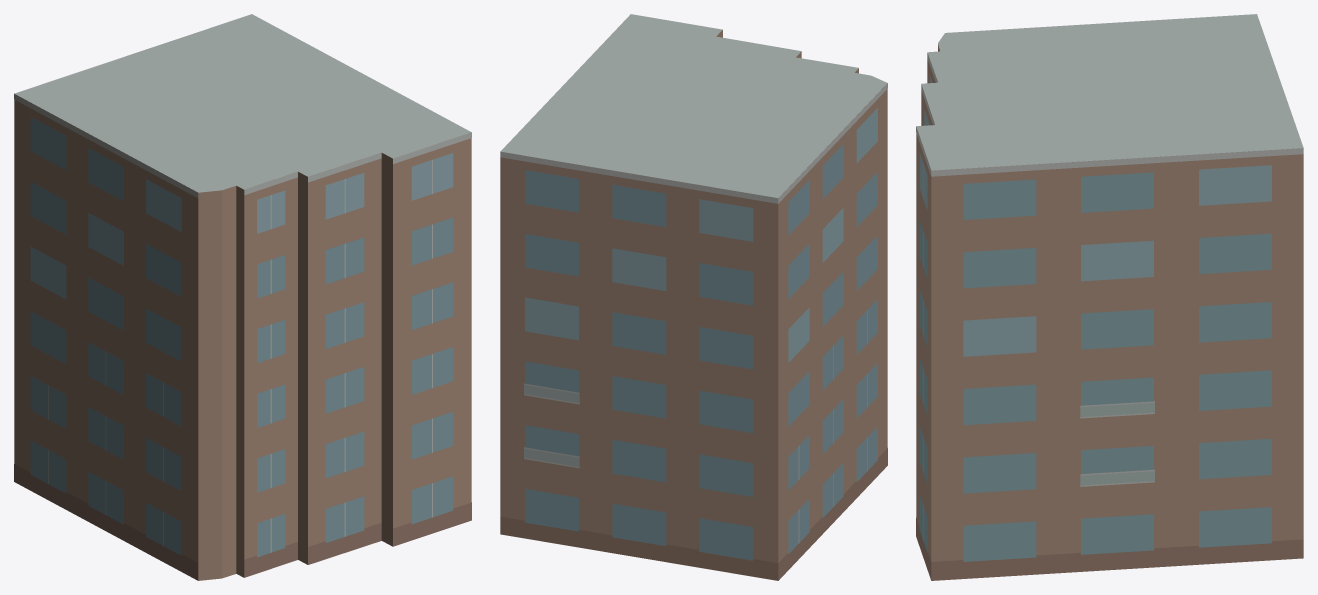
The model's file is survey-upis-32526548.glb.
3 views of the same model, side by side, from view 1: azimuth 30°, elevation 25°; view 2: azimuth 150°, elevation 25°; view 3: azimuth 270°, elevation 25° (orthographic). The views are drawn at different scales.
Parts seen in each view (by area): view 1: survey-upis-32526548.tmp; view 2: survey-upis-32526548.tmp; view 3: survey-upis-32526548.tmp.
Part boxes in pixels (x1,y1,x2,y2): survey-upis-32526548.tmp: (14,14,471,580); survey-upis-32526548.tmp: (500,14,887,580); survey-upis-32526548.tmp: (916,14,1303,580).
Size of the model in its own units: 13.52 by 16.5 by 14.14.
